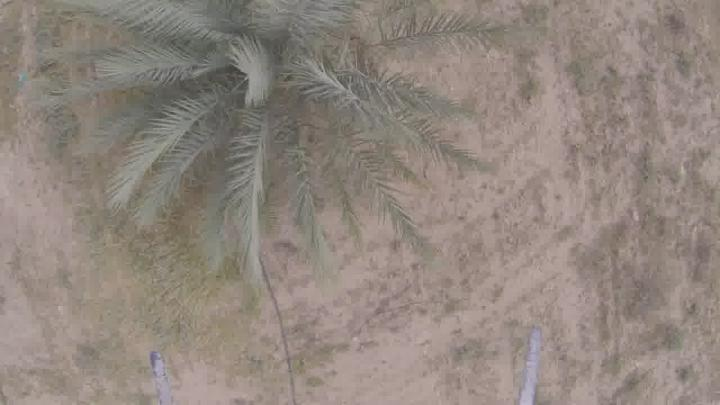Date-Palm-Crown: (167, 0, 365, 180)
